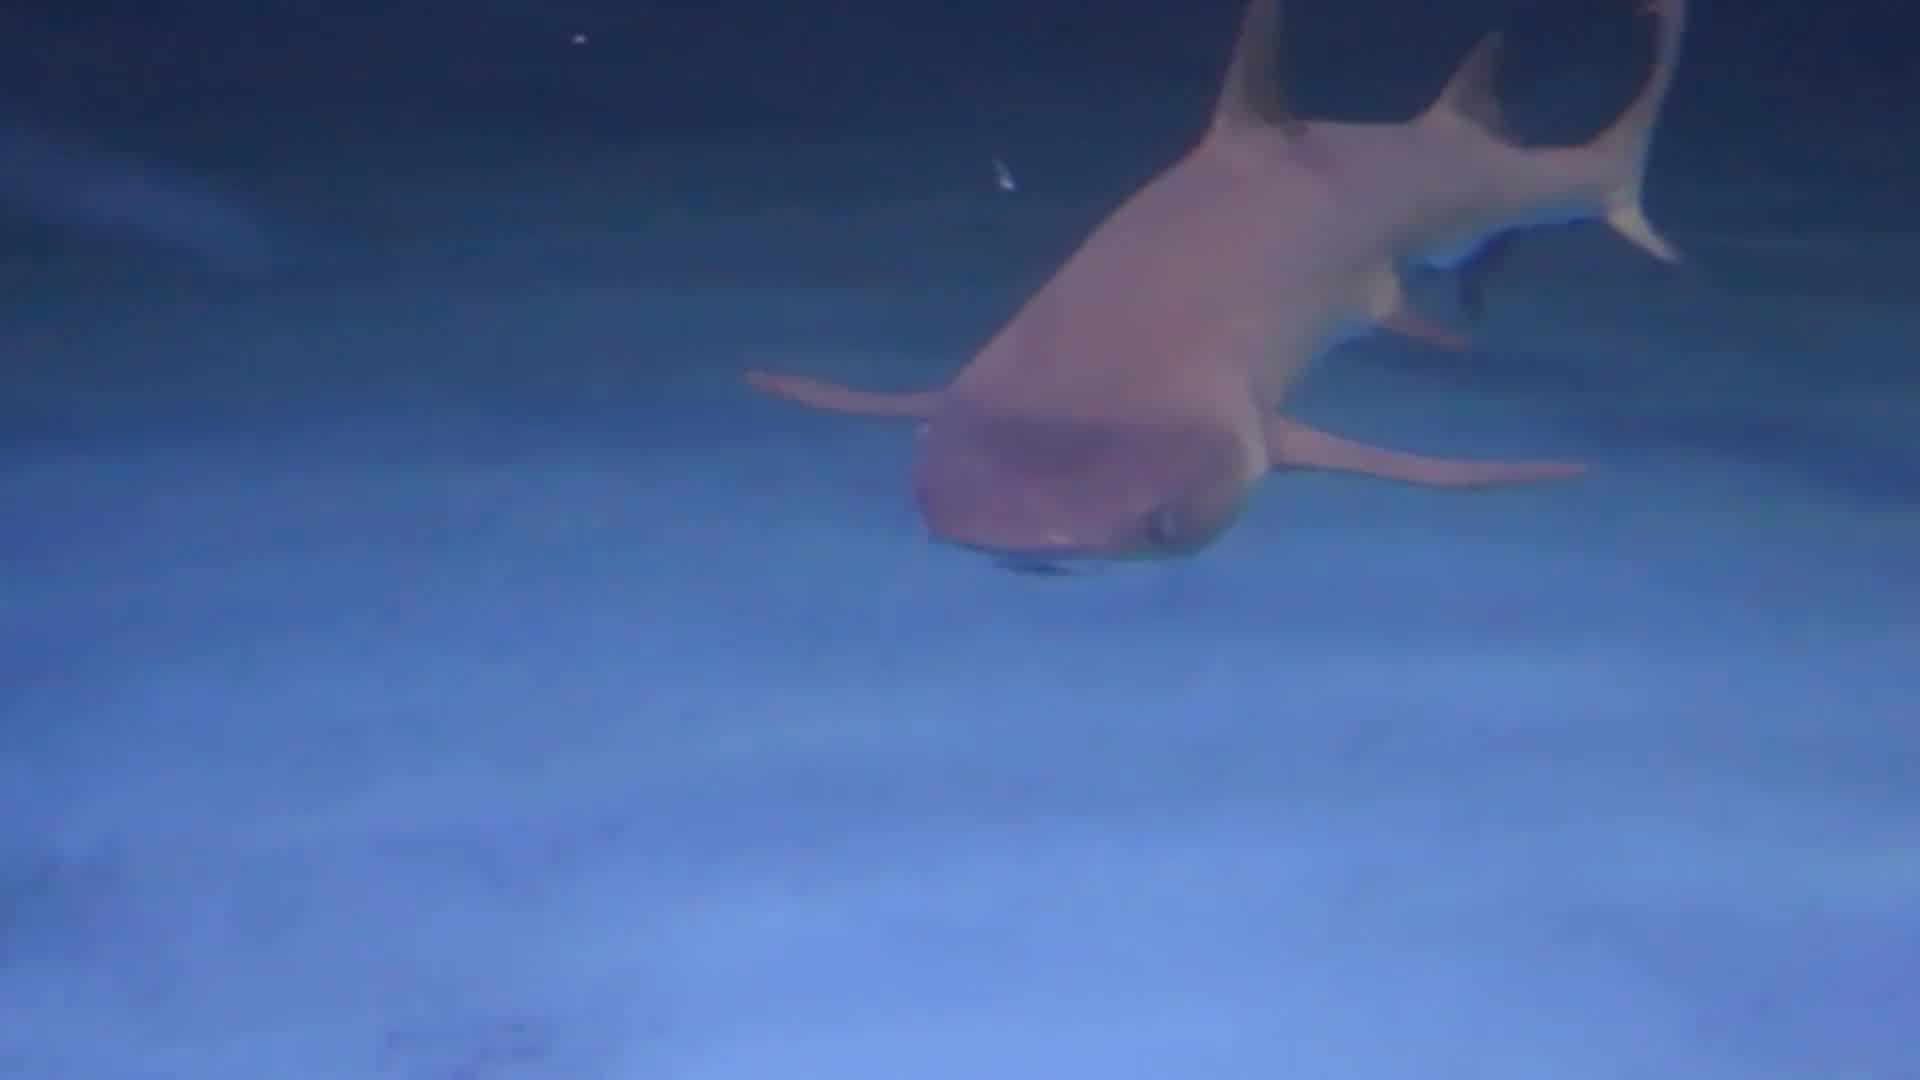Triaenodon obesus: (727, 1, 1779, 713)
